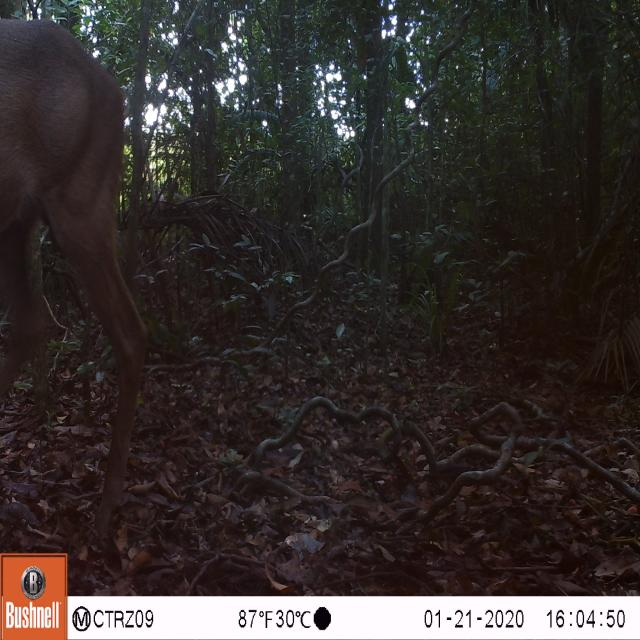White-tailed Deer: (0, 8, 167, 552)
